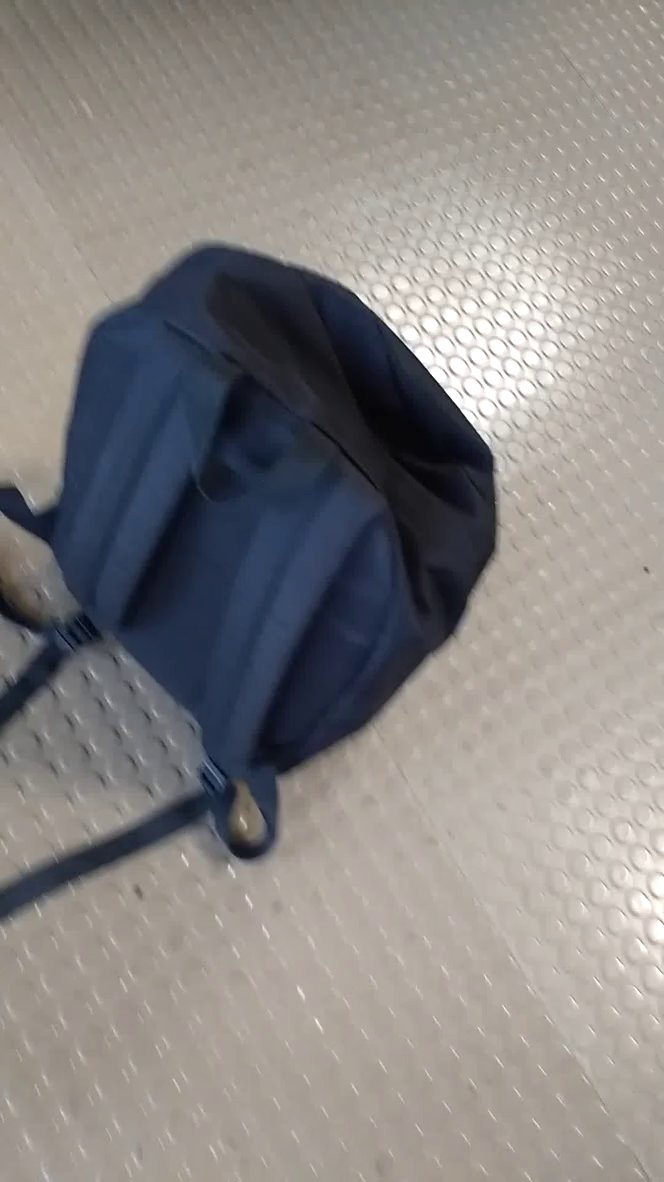bag: (1, 202, 518, 964)
